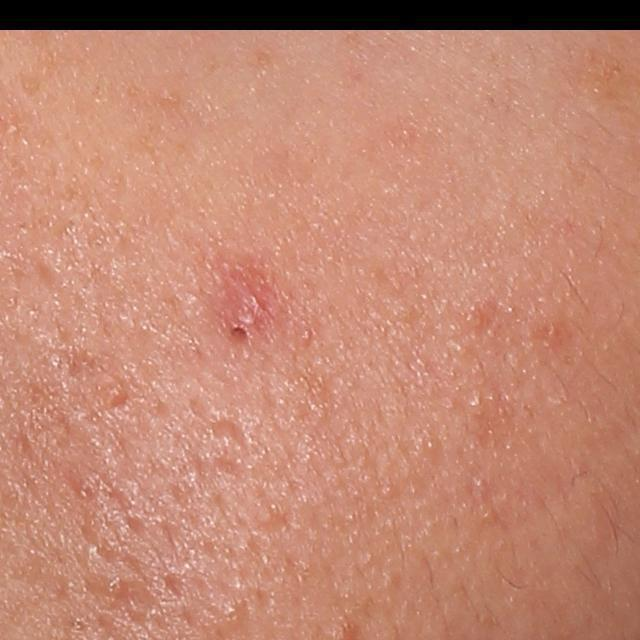atrophic_scar: (84, 573, 168, 632), (208, 414, 257, 455), (33, 252, 66, 292)
